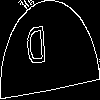D: (25, 25, 48, 75)
